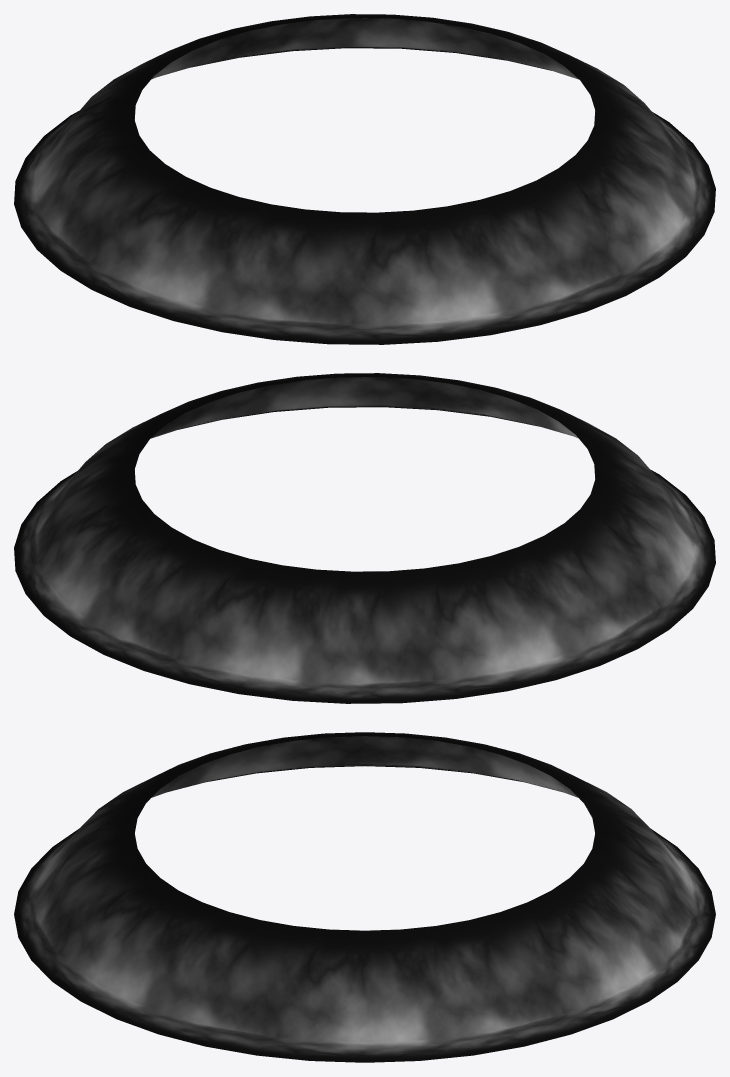
Rendered from FX_Md_shockwave_01.fbx.
3 views of the same model, one above another, from view 1: azimuth 30°, elevation 25°; view 2: azimuth 150°, elevation 25°; view 3: azimuth 270°, elevation 25° (orthographic).
Parts seen in each view (by area): view 1: shockwave; view 2: shockwave; view 3: shockwave.
Boxes of the visible parts, left/top/right/bottom form: shockwave: left=14, top=14, right=715, bottom=344; shockwave: left=14, top=373, right=715, bottom=703; shockwave: left=14, top=732, right=715, bottom=1062.
Bounding box in the file's own units: 214 × 27.23 × 214.
Materials: 1 (1 with a texture image).
